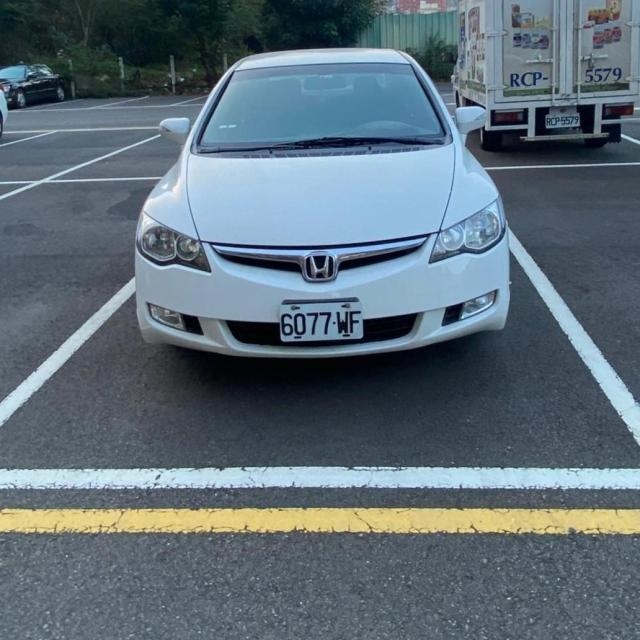W: (278, 298, 363, 342), (545, 110, 582, 129)
